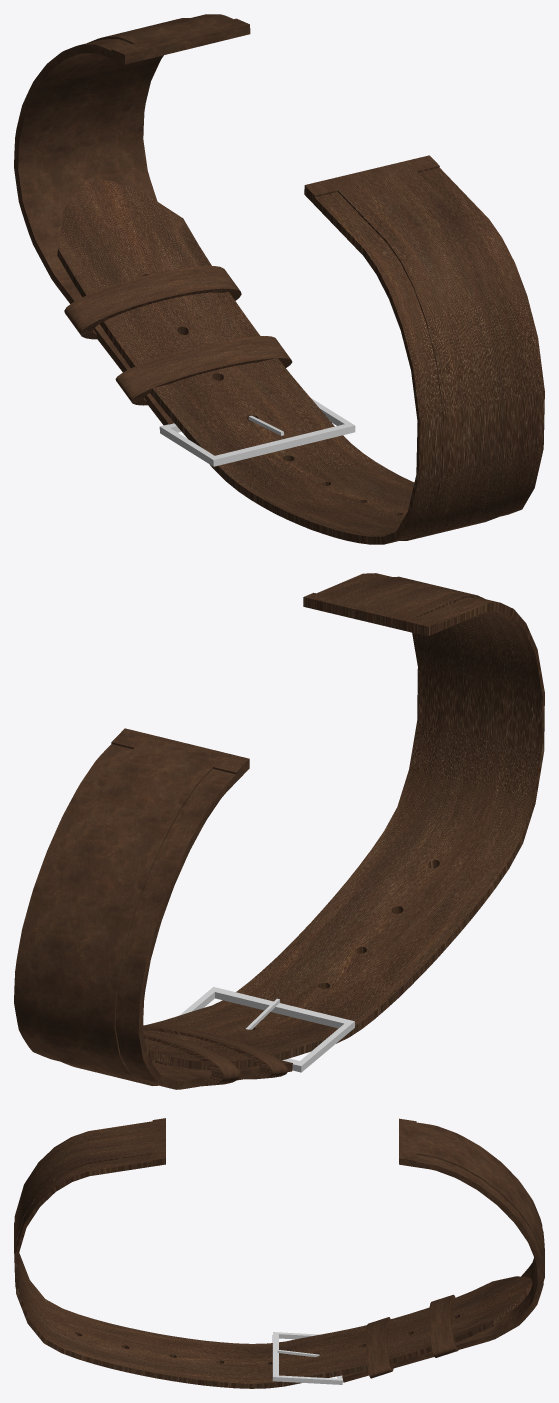
Rendered from BurlingtonLeatherBand.glb.
The picture shows the model from 3 angles, top to bottom: view 1: azimuth 30°, elevation 25°; view 2: azimuth 150°, elevation 25°; view 3: azimuth 270°, elevation 25°; orthographic projection. The views are drawn at different scales.
Visible parts, largest first — view 1: LongStrap.002, ShortConnect.001, Cylinder.003, Cylinder.002, Connector.001; view 2: LongStrap.002, ShortConnect.001, Connector.001, Cylinder.002, Cylinder.003; view 3: LongStrap.002, ShortConnect.001, Cylinder.003, Cylinder.002, Connector.001.
Part boxes in pixels (x1,y1,x2,y2): LongStrap.002: (57, 155, 544, 544); ShortConnect.001: (14, 14, 250, 425); Cylinder.003: (64, 266, 241, 339); Cylinder.002: (115, 336, 292, 405); Connector.001: (159, 398, 355, 466); LongStrap.002: (144, 573, 544, 1070); ShortConnect.001: (14, 728, 292, 1089); Connector.001: (179, 987, 354, 1072); Cylinder.002: (143, 1025, 288, 1079); Cylinder.003: (143, 1030, 240, 1086); LongStrap.002: (14, 1118, 532, 1388); ShortConnect.001: (342, 1118, 544, 1382); Cylinder.003: (429, 1294, 458, 1357); Cylinder.002: (365, 1317, 393, 1378); Connector.001: (272, 1332, 342, 1384).
Bounding box in the file's own units: 0.9944 × 2.09 × 4.33.
4 materials, 2 textured.
